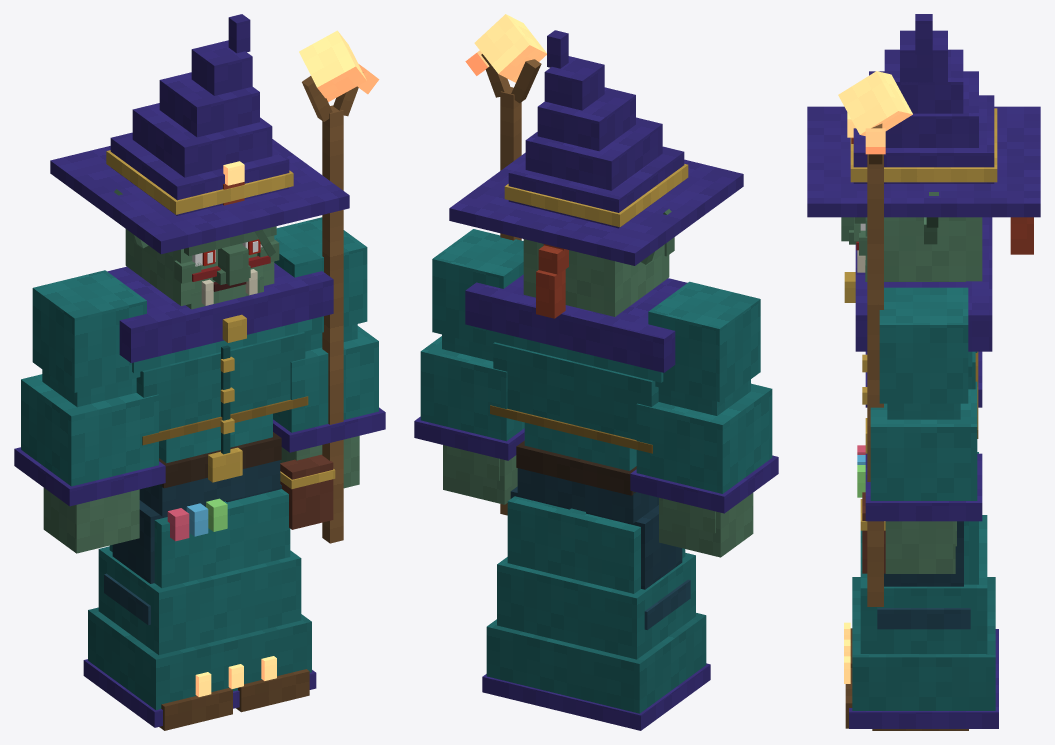
The model's file is hobgoblin_mage_v2.glb.
The picture shows the model from 3 angles, left to right: view 1: azimuth 30°, elevation 25°; view 2: azimuth 150°, elevation 25°; view 3: azimuth 270°, elevation 25°; orthographic projection. The views are drawn at different scales.
Parts seen in each view (by area): view 1: Head, Torso, Root, ArmR, ArmL, HandL, LegR, LegL; view 2: Head, Root, Torso, ArmR, ArmL, HandL, LegR; view 3: Head, ArmL, Root, HandL, Torso, LegL.
Boxes of the visible parts, x1=… form: Head: x1=50, y1=14, x2=349, y2=309; Torso: x1=107, y1=263, x2=335, y2=541; Root: x1=83, y1=489, x2=316, y2=727; ArmR: x1=14, y1=270, x2=165, y2=553; ArmL: x1=273, y1=217, x2=385, y2=488; HandL: x1=299, y1=30, x2=379, y2=543; LegR: x1=104, y1=500, x2=232, y2=730; LegL: x1=226, y1=484, x2=309, y2=712; Head: x1=449, y1=30, x2=743, y2=318; Root: x1=482, y1=496, x2=710, y2=730; Torso: x1=465, y1=274, x2=687, y2=523; ArmR: x1=630, y1=281, x2=778, y2=557; ArmL: x1=414, y1=229, x2=524, y2=504; HandL: x1=465, y1=14, x2=546, y2=515; LegR: x1=586, y1=505, x2=690, y2=629; Head: x1=807, y1=14, x2=1040, y2=281; ArmL: x1=865, y1=287, x2=982, y2=573; Root: x1=844, y1=452, x2=998, y2=728; HandL: x1=838, y1=71, x2=912, y2=606; Torso: x1=844, y1=217, x2=992, y2=573; LegL: x1=845, y1=521, x2=970, y2=730.
Bounding box in the file's own units: 1.15 × 2.3 × 0.7.
Materials: 40 (40 with a texture image).
